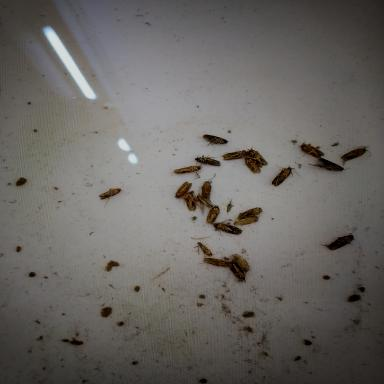pbw: (96, 180, 132, 210), (268, 164, 303, 188), (318, 232, 358, 252), (169, 158, 205, 180), (306, 157, 352, 173), (340, 144, 374, 162), (212, 218, 244, 237), (246, 144, 270, 168), (200, 172, 219, 202), (296, 141, 326, 159), (227, 260, 249, 284), (198, 256, 234, 270), (201, 204, 221, 228), (196, 133, 230, 147), (172, 180, 194, 200), (193, 193, 217, 211), (220, 147, 250, 161), (193, 154, 223, 168), (181, 189, 199, 212), (243, 154, 263, 174), (235, 207, 265, 220), (232, 214, 262, 226), (195, 240, 214, 258)
